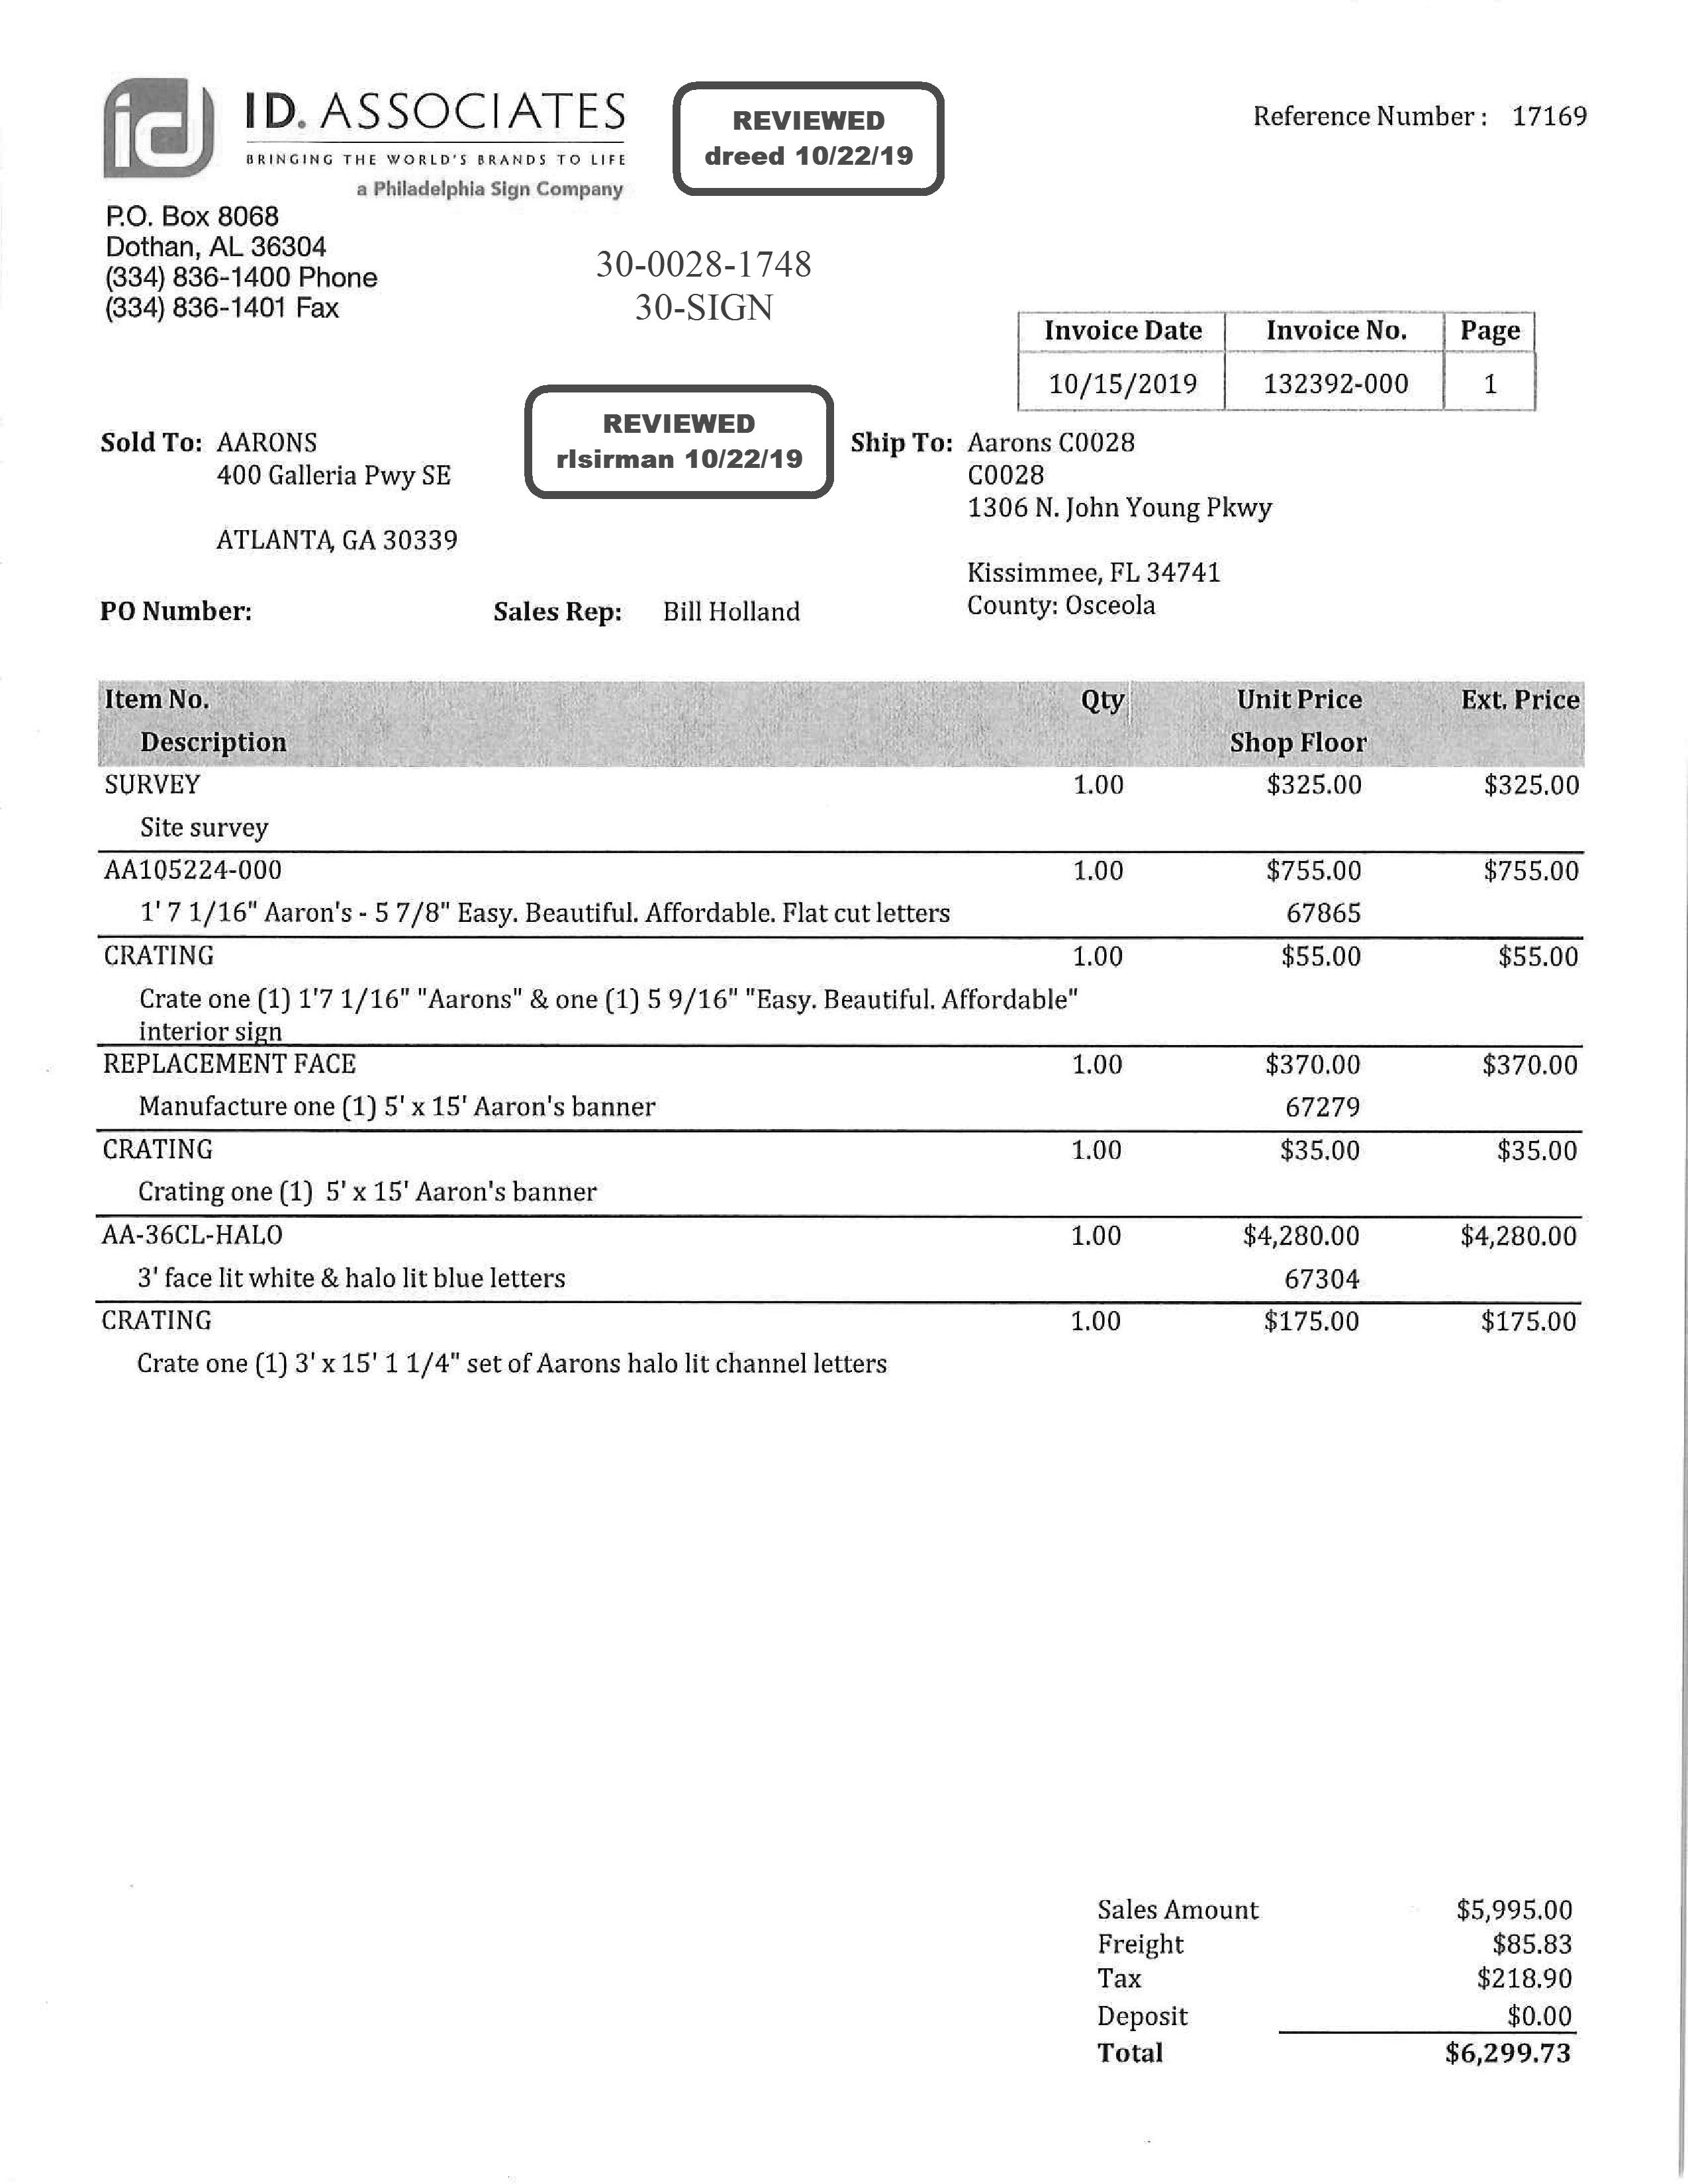B_Paragraph: (849, 424, 1273, 624), (92, 418, 461, 558), (98, 197, 385, 346), (539, 390, 812, 480), (589, 236, 817, 324), (1252, 90, 1592, 149), (695, 96, 917, 177), (479, 589, 810, 638), (92, 592, 262, 640)
B_SubTitle: (353, 172, 633, 204), (243, 147, 629, 170)
B_Table: (96, 679, 1585, 1381), (1096, 1890, 1582, 2076), (1016, 308, 1537, 411)
B_Title: (241, 73, 628, 138)
